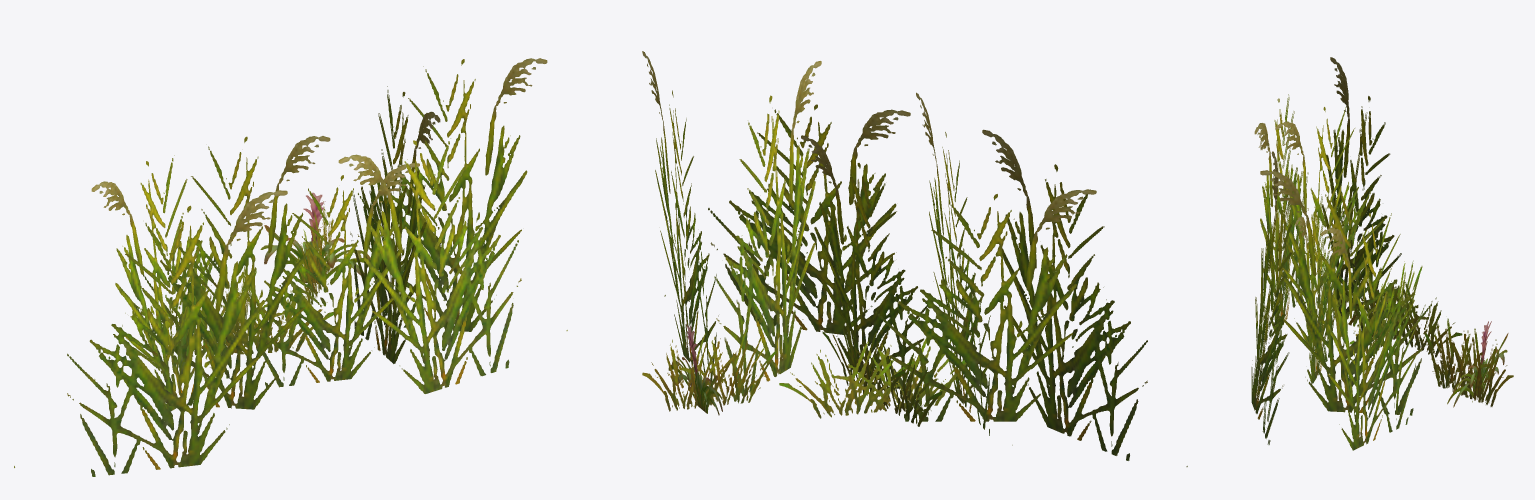
The model's file is DN_grass06b.FBX.
3 renders of one model, left to right at view 1: azimuth 30°, elevation 25°; view 2: azimuth 150°, elevation 25°; view 3: azimuth 270°, elevation 25°, orthographic. The views are drawn at different scales.
Parts seen in each view (by area): view 1: DN_grass06b; view 2: DN_grass06b; view 3: DN_grass06b.
Part boxes in pixels (x1,y1,x2,y2): DN_grass06b: [14, 58, 567, 476]; DN_grass06b: [642, 51, 1187, 466]; DN_grass06b: [1251, 57, 1513, 450].
Bounding box in the file's own units: 120 × 63.12 × 62.15.
1 material, 1 textured.
